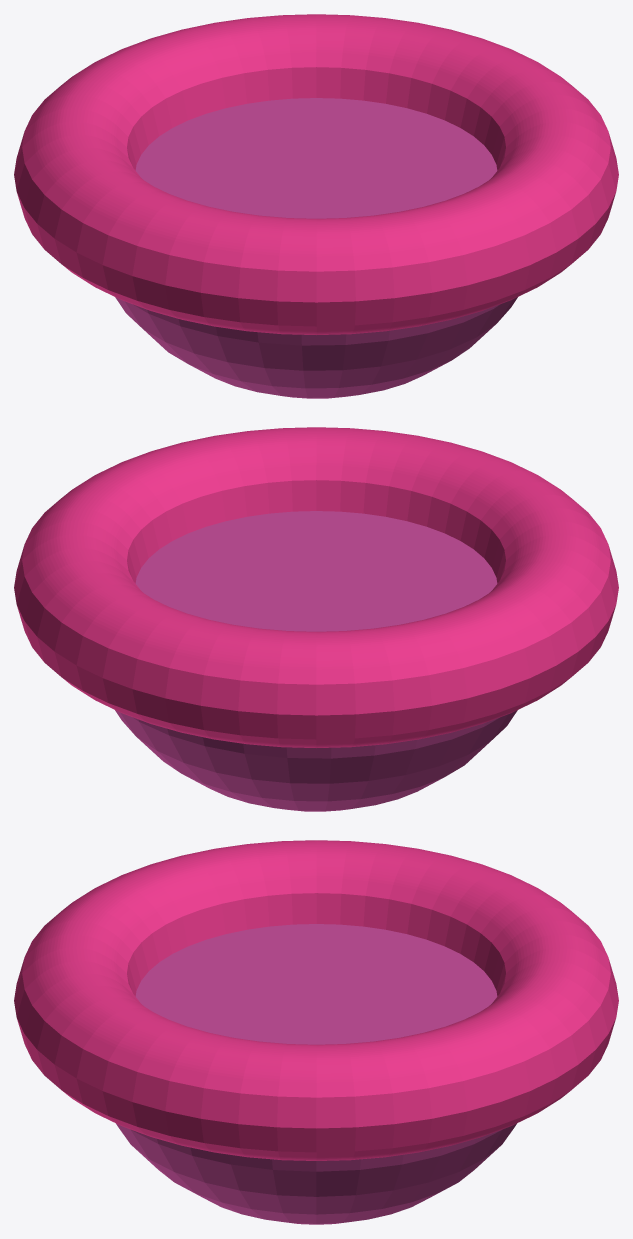
File: Bubble_Up.fbx
3 views of the same model, one above another, from view 1: azimuth 30°, elevation 25°; view 2: azimuth 150°, elevation 25°; view 3: azimuth 270°, elevation 25° (orthographic).
Visible parts, largest first — view 1: Torus, Sphere; view 2: Torus, Sphere; view 3: Torus, Sphere.
Boxes of the visible parts, left/top/right/bottom form: Torus: left=14, top=14, right=618, bottom=334; Sphere: left=115, top=98, right=517, bottom=398; Torus: left=14, top=427, right=618, bottom=747; Sphere: left=115, top=511, right=517, bottom=811; Torus: left=14, top=840, right=618, bottom=1160; Sphere: left=116, top=924, right=516, bottom=1224.
Size of the model in its own units: 250 by 115 by 250.
